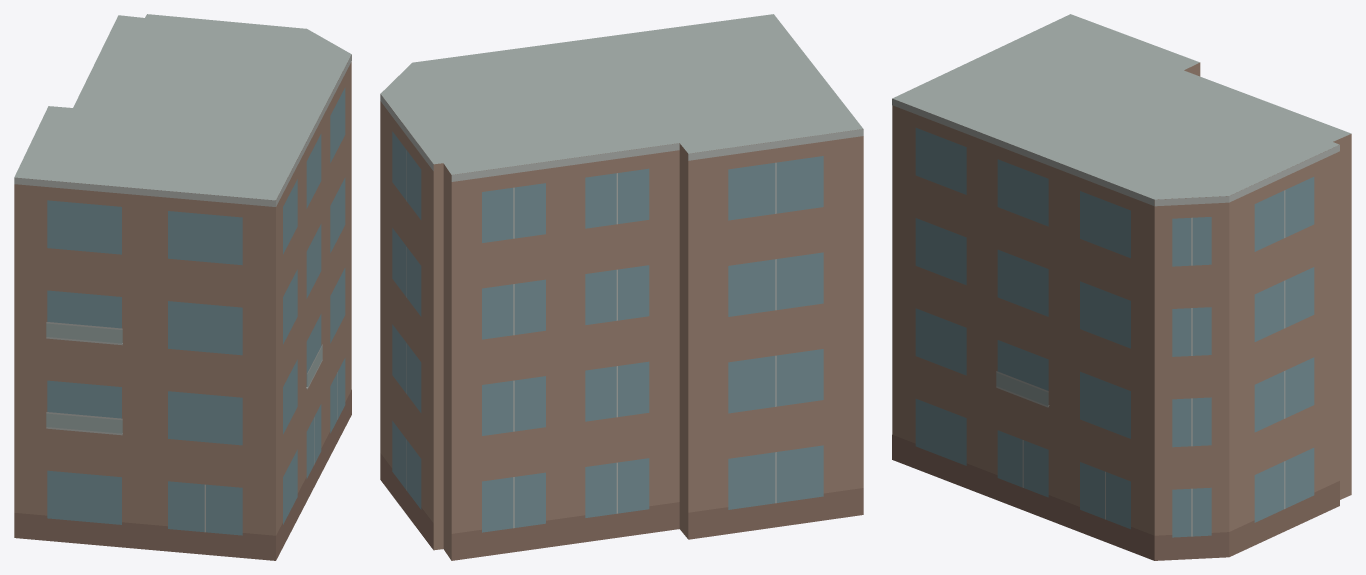
Rendered from survey-upis-32529058.glb.
The picture shows the model from 3 angles, left to right: view 1: azimuth 30°, elevation 25°; view 2: azimuth 150°, elevation 25°; view 3: azimuth 270°, elevation 25°; orthographic projection. The views are drawn at different scales.
Visible parts, largest first — view 1: survey-upis-32529058.tmp; view 2: survey-upis-32529058.tmp; view 3: survey-upis-32529058.tmp.
Part boxes in pixels (bbox=[...]): survey-upis-32529058.tmp: bbox=[14, 14, 351, 560]; survey-upis-32529058.tmp: bbox=[380, 14, 863, 560]; survey-upis-32529058.tmp: bbox=[892, 14, 1351, 560].
Size of the model in its own units: 14.55 by 13.2 by 15.23.
